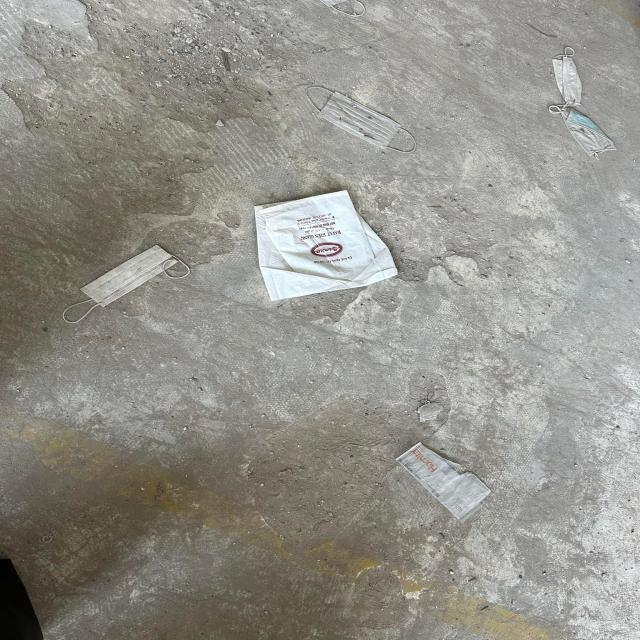bag: (253, 189, 399, 302)
mask: (62, 243, 192, 324), (304, 86, 417, 153), (549, 105, 618, 161), (550, 46, 584, 107)
